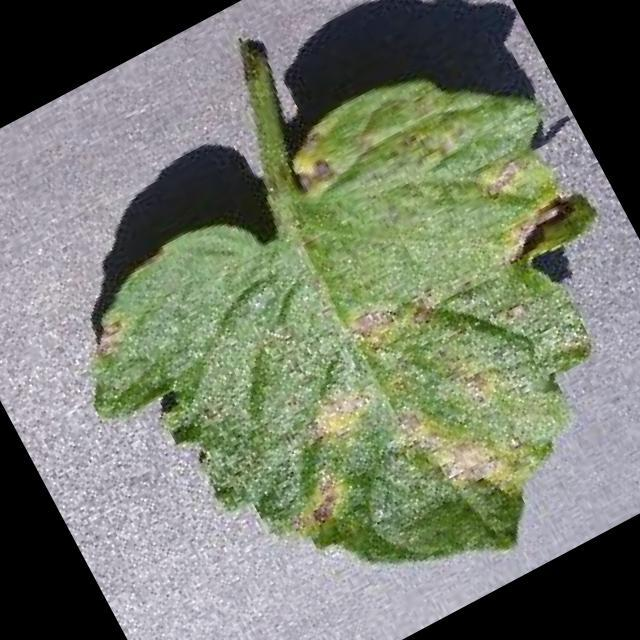Tomato Septoria spot leaf: (29, 22, 640, 640)
